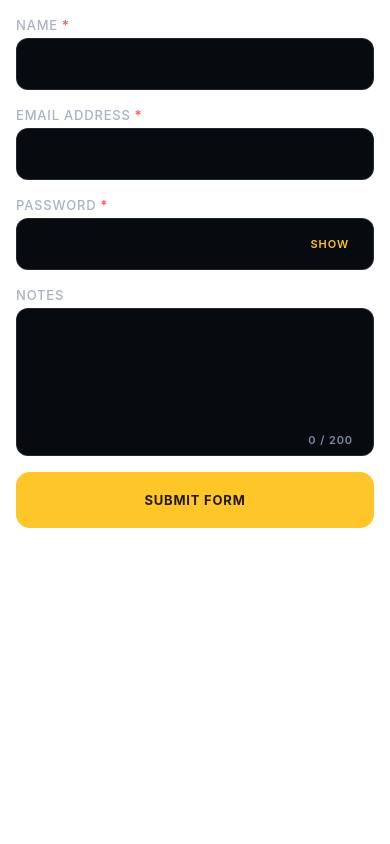
AppInput Component › Form Submission Example Workflow › validates on submit, prevents invalid submission, and succeeds when fields are valid
Later steps or results of the test are not shown.
Note: Attempt to submit empty form
Click the button with test id "test-form-submit-btn". click: (195, 500)
box: [16, 472, 374, 528]
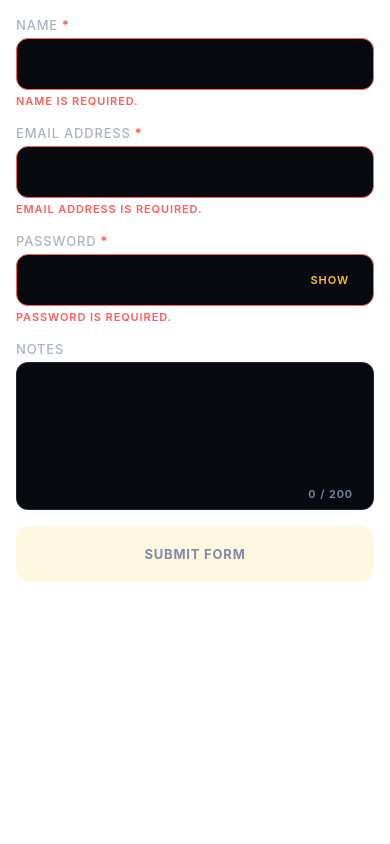
Expected: the text "Name is required." is shown, [16, 94, 138, 108]
Expected: the text "Email address is required." is shown, [16, 202, 202, 216]
Expected: the text "Password is required." is shown, [16, 310, 172, 324]
